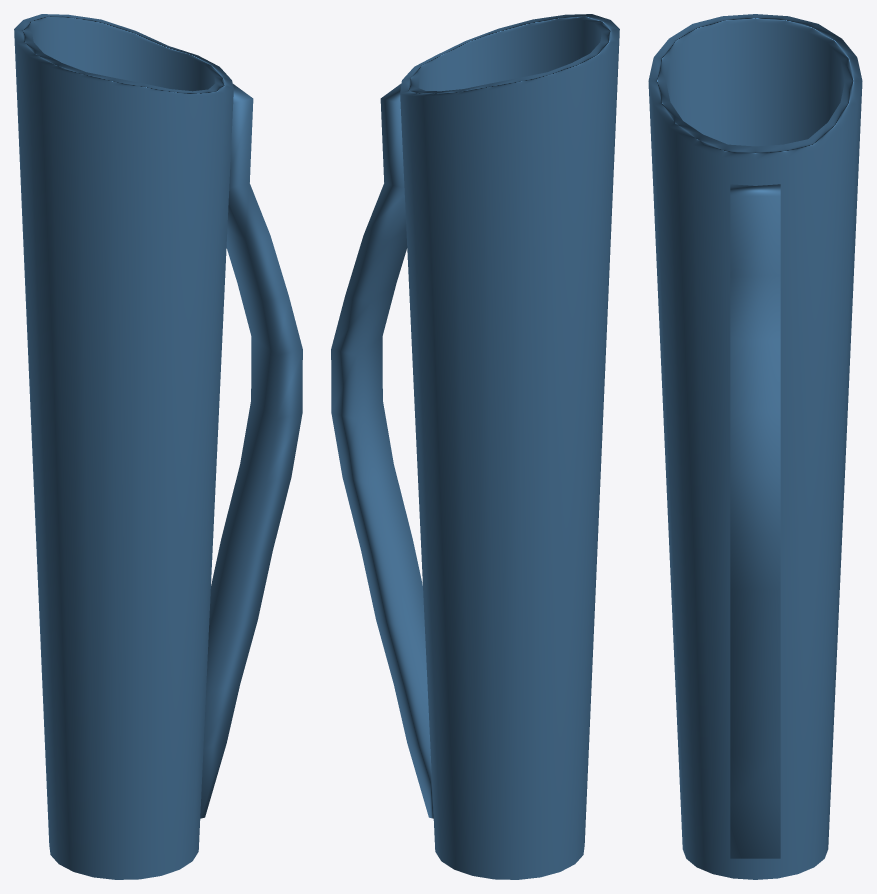
Rendered from Arrow Bad.fbx.
3 renders of one model, left to right at view 1: azimuth 30°, elevation 25°; view 2: azimuth 150°, elevation 25°; view 3: azimuth 270°, elevation 25°, orthographic. The views are drawn at different scales.
Parts seen in each view (by area): view 1: pCylinder4, pCube4; view 2: pCylinder4, pCube4; view 3: pCylinder4, pCube4.
Part boxes in pixels (bbox=[...]): pCylinder4: bbox=[14, 14, 233, 879]; pCube4: bbox=[200, 84, 302, 818]; pCylinder4: bbox=[400, 14, 619, 879]; pCube4: bbox=[331, 84, 433, 818]; pCylinder4: bbox=[648, 14, 862, 879]; pCube4: bbox=[730, 184, 780, 858].
Size of the model in its own units: 0.0506 by 0.1508 by 0.037.
